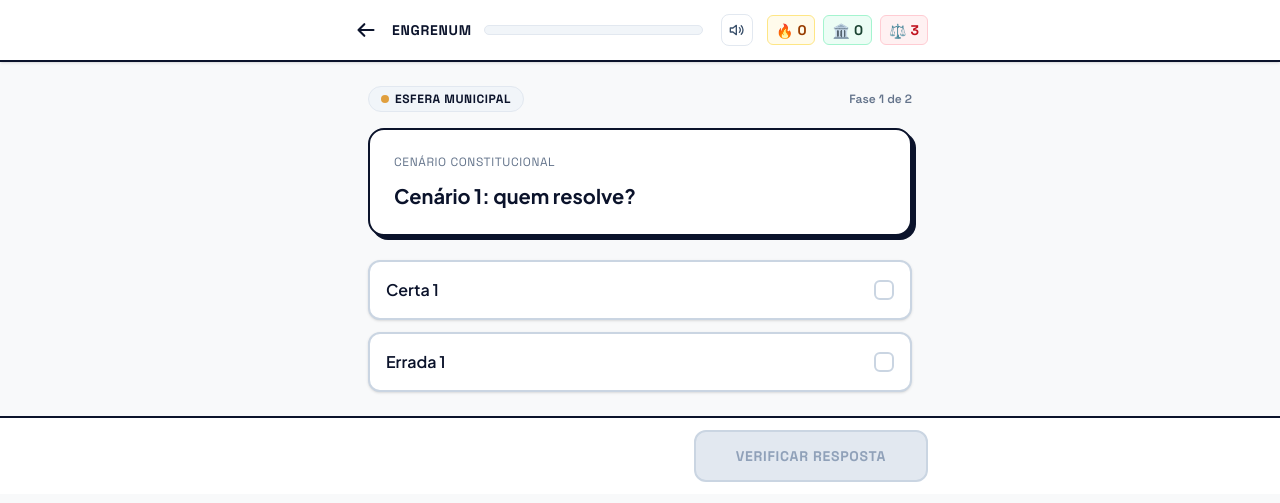
EngrenumQuiz › shows the first scenario and enables verification only after a choice
This screenshot has width=1280, height=503.
Check: the heading "Cenário 1: quem resolve?" is shown, box [394,183,636,208]
Check: the button "Verificar Resposta" is disabled, box [694,430,928,482]
Click the button "Errada 1". click: (416, 361)
box: [368,332,912,392]
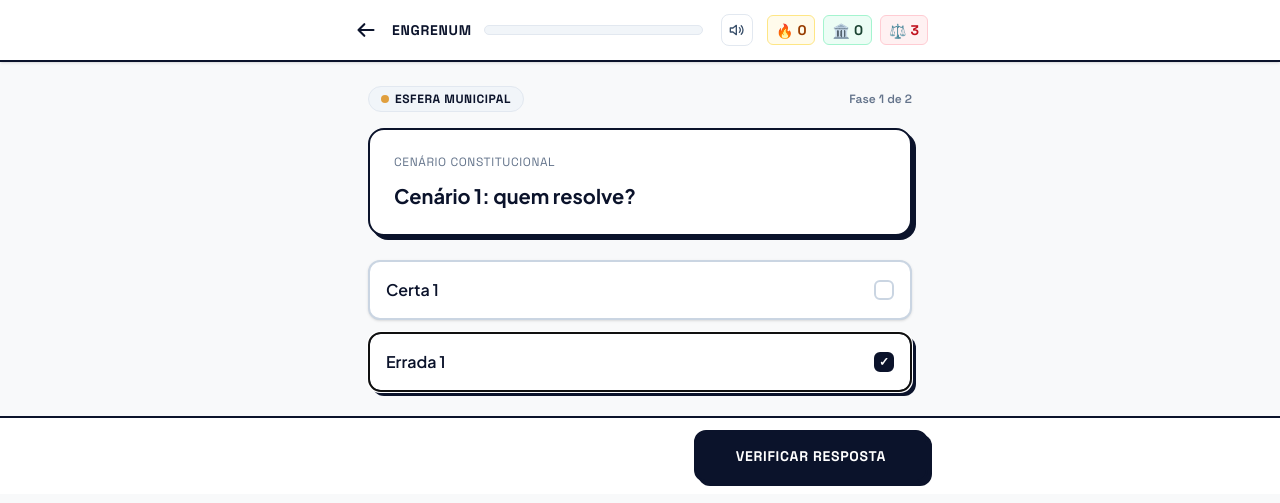
Check: the button "Verificar Resposta" is enabled, box [694,430,928,482]
